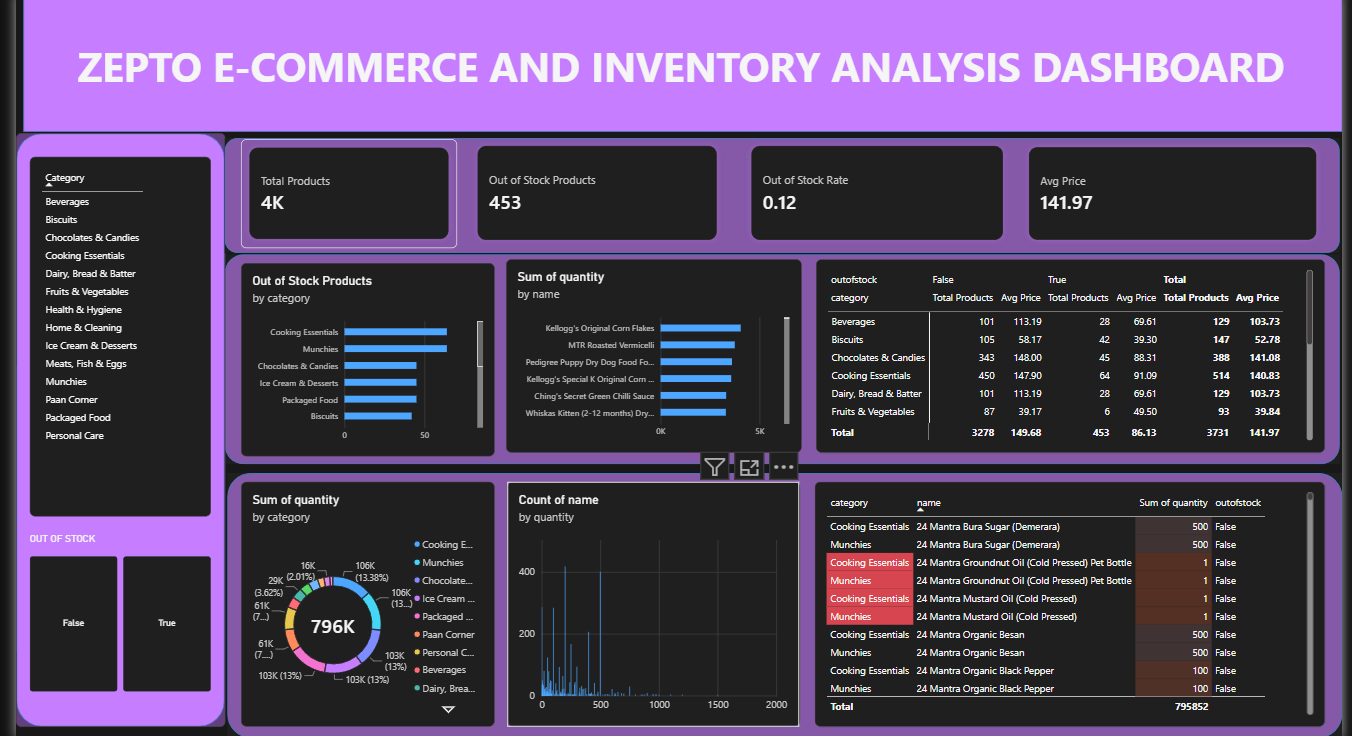

This screenshot's page, from the dashboard's own definition file:
{"tool":"powerbi","page":{"name":"Page 1","canvas":[1920,1080],"ordinal":0},"visuals":[{"type":"shape","box":[10.1,0,1909.3,200.7],"z":0},{"type":"shape","box":[305.8,694.9,1614.2,383.6],"z":1000},{"type":"shape","box":[302.2,378.2,1614.2,304],"z":1500},{"type":"textbox","box":[8.1,46.4,1910.3,155.3],"z":2000},{"type":"shape","box":[0,202.7,302.9,860.2],"z":3000},{"type":"tableEx","fields":{"Values":["public zepto.category"]},"box":[19.9,237.1,262.4,521.2],"z":4000},{"type":"advancedSlicerVisual","fields":{"Values":["public zepto.outofstock"]},"box":[19.9,781.8,262.4,229.8],"z":5000},{"type":"shape","box":[302.2,209.9,1614.2,166.5],"z":6000},{"type":"cardVisual","fields":{"Data":["public zepto.Total Products"]},"box":[325.7,211.7,313.1,157.4],"z":7000},{"type":"cardVisual","fields":{"Data":["public zepto.Out of Stock Products"]},"box":[656.9,209.9,369.2,159.3],"z":8000},{"type":"cardVisual","fields":{"Data":["public zepto.Out of Stock Rate"]},"box":[1053.2,209.9,387.3,159.3],"z":9000},{"type":"cardVisual","fields":{"Data":["public zepto.Avg Price"]},"box":[1455,211.7,439.7,157.4],"z":10000},{"type":"clusteredBarChart","fields":{"Category":["public zepto.category"],"Y":["public zepto.Out of Stock Products"]},"box":[325.6,390.3,367.3,279.7],"z":11000},{"type":"barChart","fields":{"Category":["public zepto.name"],"Y":["Sum(public zepto.quantity)"]},"box":[709.6,386.1,427.8,279.7],"z":12000},{"type":"pivotTable","fields":{"Columns":["public zepto.outofstock"],"Rows":["public zepto.category"],"Values":["public zepto.Total Products","public zepto.Avg Price"]},"box":[1158.3,386.1,736.7,279.7],"z":13000},{"type":"donutChart","fields":{"Category":["public zepto.category"],"Y":["Sum(public zepto.quantity)"]},"box":[325.7,707.6,367.4,354.7],"z":14000},{"type":"clusteredColumnChart","fields":{"Category":["public zepto.quantity"],"Y":["CountNonNull(public zepto.name)"]},"box":[711.2,707.6,423.7,354.8],"z":15000},{"type":"tableEx","fields":{"Values":["public zepto.category","public zepto.name","Sum(public zepto.quantity)","public zepto.outofstock"]},"box":[1156.2,707.5,738.8,354.8],"z":16000}]}

Visuals, with their boxes in screenshot pixels (x1, y1, x2, y2):
shape: <region>14, 0, 1344, 126</region>
shape: <region>220, 470, 1345, 735</region>
shape: <region>218, 249, 1342, 461</region>
textbox: <region>13, 18, 1343, 126</region>
shape: <region>7, 127, 218, 726</region>
tableEx - public zepto.category: <region>21, 151, 204, 514</region>
advancedSlicerVisual - public zepto.outofstock: <region>21, 531, 204, 691</region>
shape: <region>218, 132, 1342, 248</region>
cardVisual - public zepto.Total Products: <region>234, 133, 452, 243</region>
cardVisual - public zepto.Out of Stock Products: <region>465, 132, 722, 243</region>
cardVisual - public zepto.Out of Stock Rate: <region>741, 132, 1011, 243</region>
cardVisual - public zepto.Avg Price: <region>1021, 133, 1327, 243</region>
clusteredBarChart - public zepto.category x public zepto.Out of Stock Products: <region>234, 258, 490, 453</region>
barChart - public zepto.name x Sum(public zepto.quantity): <region>501, 255, 799, 450</region>
pivotTable - public zepto.outofstock x public zepto.category: <region>814, 255, 1327, 450</region>
donutChart - public zepto.category x Sum(public zepto.quantity): <region>234, 479, 490, 726</region>
clusteredColumnChart - public zepto.quantity x CountNonNull(public zepto.name): <region>502, 479, 798, 726</region>
tableEx - public zepto.category x public zepto.name: <region>812, 479, 1327, 726</region>
